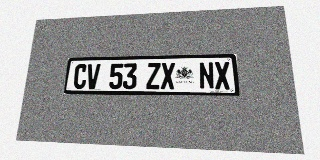3: (123, 63, 137, 89)
5: (109, 63, 124, 89)
C: (73, 64, 88, 89)
N: (199, 62, 215, 89)
V: (86, 64, 100, 89)
X: (214, 62, 231, 89), (161, 62, 175, 89)
Z: (146, 63, 160, 89)
